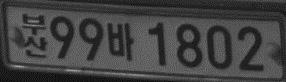0: (205, 24, 233, 71)
1: (144, 22, 172, 66)
2: (237, 25, 264, 71)
8: (175, 22, 202, 67)
9: (77, 16, 104, 61), (49, 15, 75, 59)
바: (106, 22, 135, 61)
부산_V: (21, 12, 48, 58)
